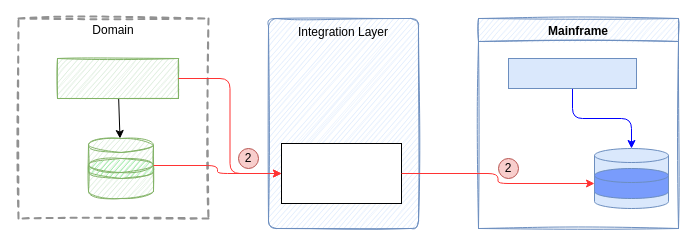
Image size: 696x246. Some labels were removed from this diagram. The centre of each missing label's shape, as x and y in pixels:
Business Function: (572,73)
microservice: (117,78)
Transformation, Anti Corruption Layer: (341,173)
